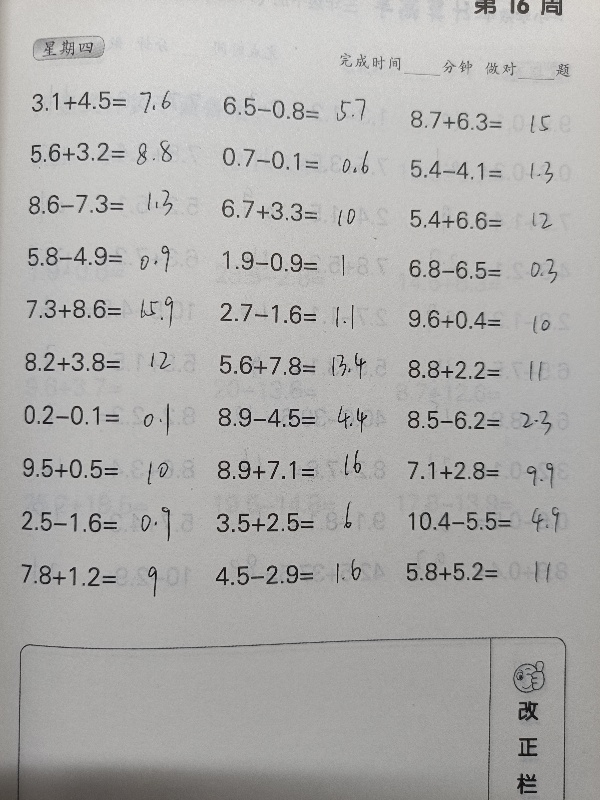equation: (12, 557, 192, 593), (13, 503, 193, 539), (19, 185, 199, 221), (206, 557, 386, 592), (14, 450, 194, 485), (210, 400, 390, 435), (15, 397, 195, 432), (210, 347, 390, 382), (213, 244, 393, 279), (20, 239, 200, 274), (22, 134, 202, 169), (214, 91, 394, 126), (397, 554, 577, 588), (207, 505, 387, 539), (400, 504, 580, 538), (398, 453, 578, 487), (209, 453, 389, 487), (399, 403, 579, 437), (399, 352, 579, 386), (17, 345, 197, 379), (399, 302, 579, 336), (211, 296, 391, 330), (18, 292, 198, 326), (400, 252, 580, 286), (401, 202, 581, 236), (212, 193, 392, 227), (401, 152, 581, 186), (213, 142, 393, 176), (23, 84, 203, 118), (401, 104, 581, 137)
